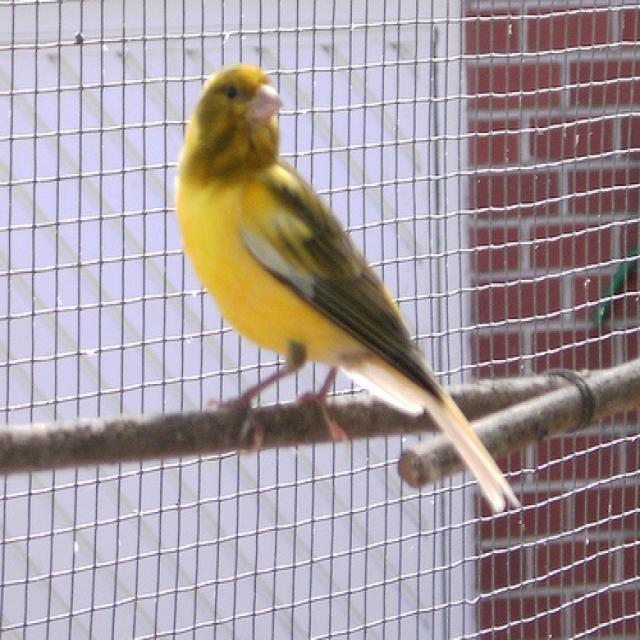bird: (175, 63, 520, 507)
